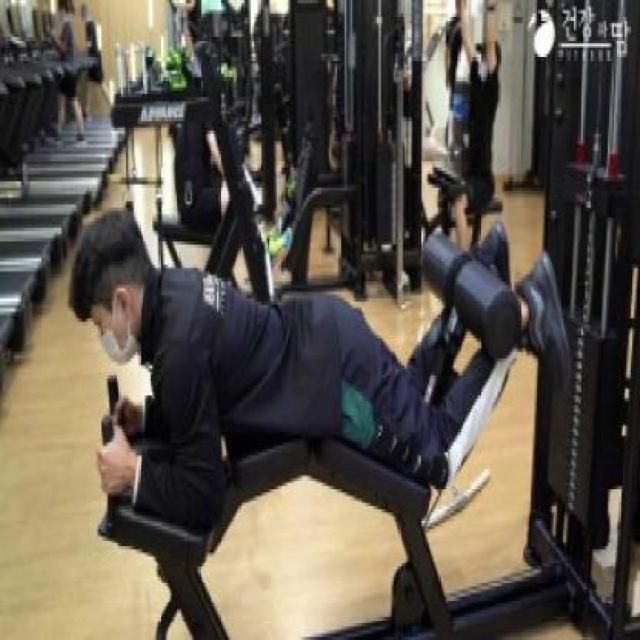reg curl machine: (67, 0, 640, 640)
